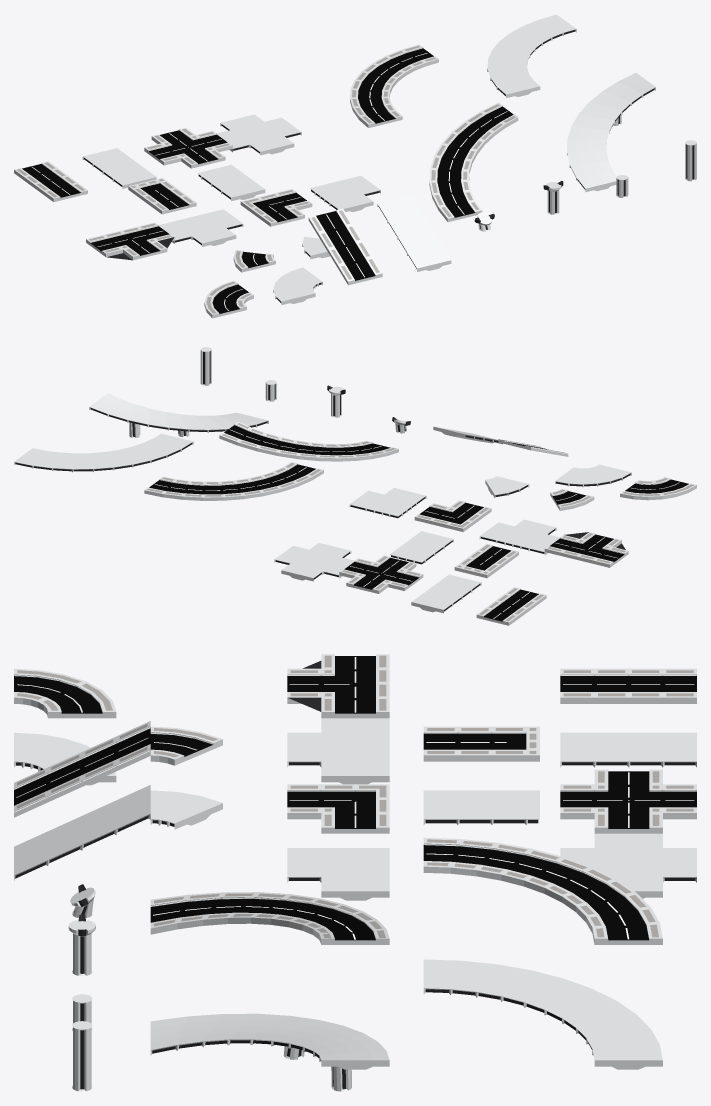
Rendered from bridges.glb.
3 views of the same model, one above another, from view 1: azimuth 30°, elevation 25°; view 2: azimuth 150°, elevation 25°; view 3: azimuth 270°, elevation 25° (orthographic). The views are drawn at different scales.
Visible parts, largest first — view 1: Road90_2x2Up, Road90_2x2upBridge, Road90_2x2, Road90_2x2Bridge, RoadForwardUp, RoadUpBridge, RoadX, RoadXBridge, RoadT, RoadTBridge, RoadAngle, RoadForward (+8 smaller); view 2: Road90_2x2, Road90_2x2Bridge, Road90_2x2Up, Road90_2x2upBridge, RoadX, RoadXBridge, RoadT, RoadTBridge, RoadAngle, RoadForward, RoadForwardBridge, RoadAngleBridge (+7 smaller); view 3: Road90_2x2, Road90_2x2Bridge, Road90_2x2Up, Road90_2x2upBridge, RoadX, RoadT, RoadTBridge, RoadXBridge, RoadForward, RoadForwardUp, RoadAngle, RoadForwardBridge (+11 smaller).
Part boxes in pixels (x1,y1,x2,y2): Road90_2x2Up: (429, 102, 518, 222); Road90_2x2upBridge: (567, 73, 655, 192); Road90_2x2: (350, 44, 438, 127); Road90_2x2Bridge: (487, 14, 576, 97); RoadForwardUp: (308, 208, 382, 285); RoadUpBridge: (377, 195, 451, 271); RoadX: (144, 127, 232, 168); RoadXBridge: (217, 114, 301, 155); RoadT: (86, 222, 174, 260); RoadTBridge: (159, 209, 243, 246); RoadAngle: (240, 189, 312, 226); RoadForward: (14, 161, 87, 201); Road90_2x2: (144, 462, 323, 500); Road90_2x2Bridge: (14, 433, 193, 472); Road90_2x2Up: (219, 421, 398, 461); Road90_2x2upBridge: (89, 393, 268, 432); RoadX: (339, 555, 423, 593); RoadXBridge: (274, 543, 354, 581); RoadT: (544, 532, 628, 567); RoadTBridge: (479, 519, 559, 554); RoadAngle: (414, 500, 491, 531); RoadForward: (476, 587, 546, 625); RoadForwardBridge: (411, 574, 481, 613); RoadAngleBridge: (349, 488, 426, 518); Road90_2x2: (423, 837, 662, 944); Road90_2x2Bridge: (423, 959, 662, 1069); Road90_2x2Up: (150, 892, 389, 944); Road90_2x2upBridge: (150, 1013, 389, 1069); RoadX: (560, 769, 696, 833); RoadT: (287, 654, 389, 718); RoadTBridge: (287, 718, 389, 784); RoadXBridge: (560, 833, 696, 898); RoadForward: (560, 668, 696, 703); RoadForwardUp: (14, 721, 150, 817); RoadAngle: (287, 784, 389, 833); RoadForwardBridge: (560, 732, 696, 767).
Bounding box in the file's own units: 32001 × 2501 × 20000.
1 material, 1 textured.
